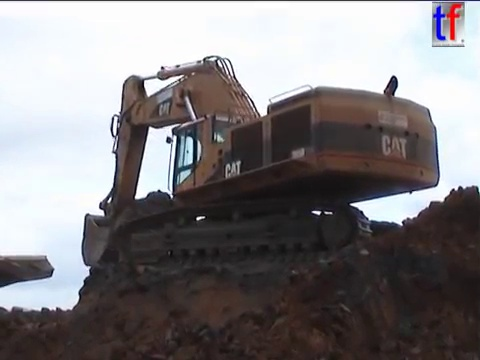excavator: (77, 52, 446, 270)
truck: (1, 251, 57, 293)
